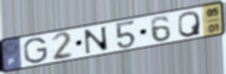2: (50, 31, 74, 63)
5: (114, 20, 136, 50)
6: (149, 14, 173, 44)
G: (22, 36, 50, 65)
N: (82, 25, 111, 55)
Q: (177, 10, 203, 38)
